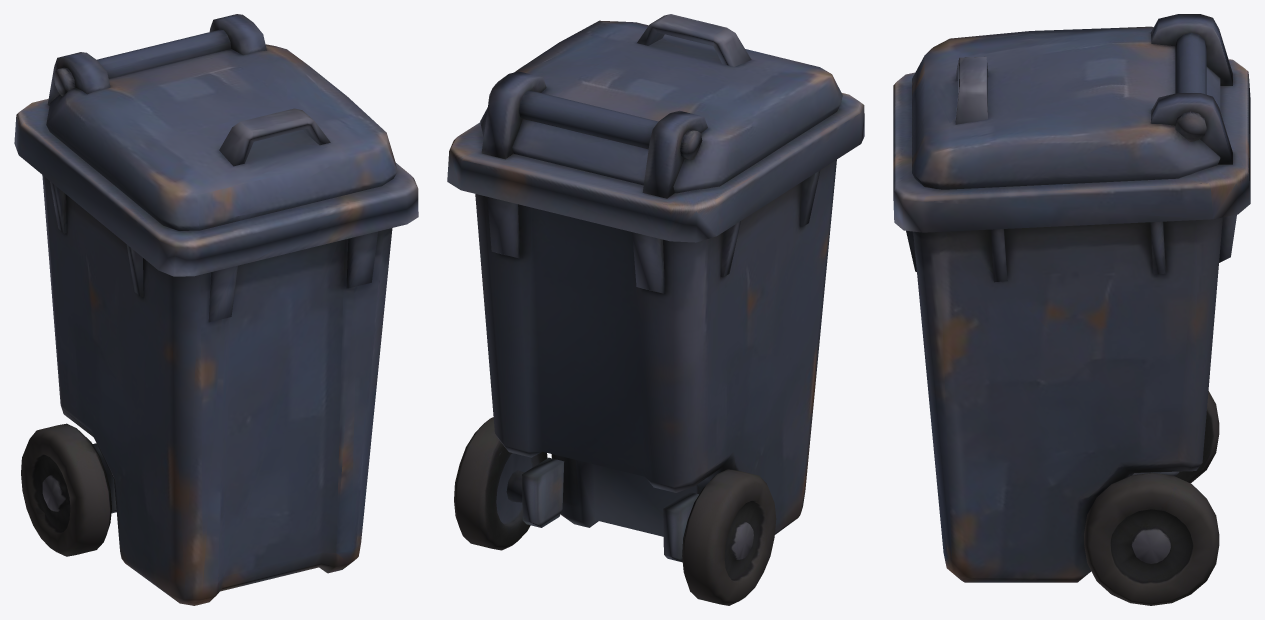
Rendered from wheelie-bin.glb.
3 renders of one model, left to right at view 1: azimuth 30°, elevation 25°; view 2: azimuth 150°, elevation 25°; view 3: azimuth 270°, elevation 25°, orthographic. The views are drawn at different scales.
Visible parts, largest first — view 1: tripo_node_845c9cd0-e59b-42a7-84e9-00daa1fbb3e6; view 2: tripo_node_845c9cd0-e59b-42a7-84e9-00daa1fbb3e6; view 3: tripo_node_845c9cd0-e59b-42a7-84e9-00daa1fbb3e6.
Boxes of the visible parts, x1=… form: tripo_node_845c9cd0-e59b-42a7-84e9-00daa1fbb3e6: x1=14, y1=14, x2=418, y2=605; tripo_node_845c9cd0-e59b-42a7-84e9-00daa1fbb3e6: x1=447, y1=14, x2=864, y2=605; tripo_node_845c9cd0-e59b-42a7-84e9-00daa1fbb3e6: x1=893, y1=14, x2=1250, y2=605.
Size of the model in its own units: 0.5734 by 1 by 0.6673.
Materials: 1 (1 with a texture image).
